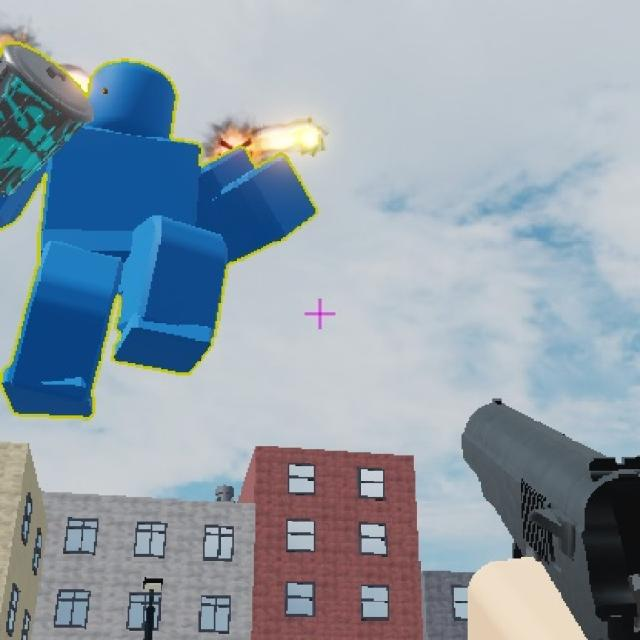player: (24, 32, 226, 425)
